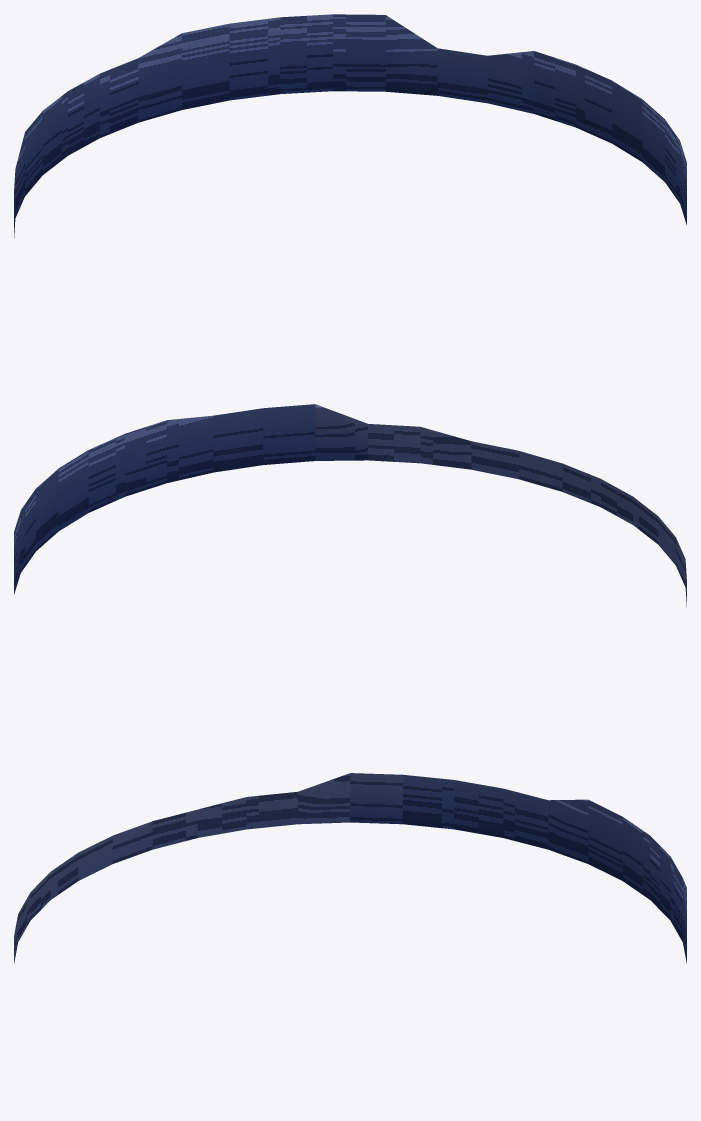
File: wsky.mesas__canyon.glb
The picture shows the model from 3 angles, top to bottom: view 1: azimuth 30°, elevation 25°; view 2: azimuth 150°, elevation 25°; view 3: azimuth 270°, elevation 25°; orthographic projection.
Visible parts, largest first — view 1: kit_shell_mesas; view 2: kit_shell_mesas; view 3: kit_shell_mesas.
Part boxes in pixels (x1=…): kit_shell_mesas: x1=14, y1=14, x2=686, y2=237; kit_shell_mesas: x1=14, y1=404, x2=686, y2=606; kit_shell_mesas: x1=14, y1=773, x2=686, y2=963.
Size of the model in its own units: 104 by 13.09 by 104.
1 material, 1 textured.
